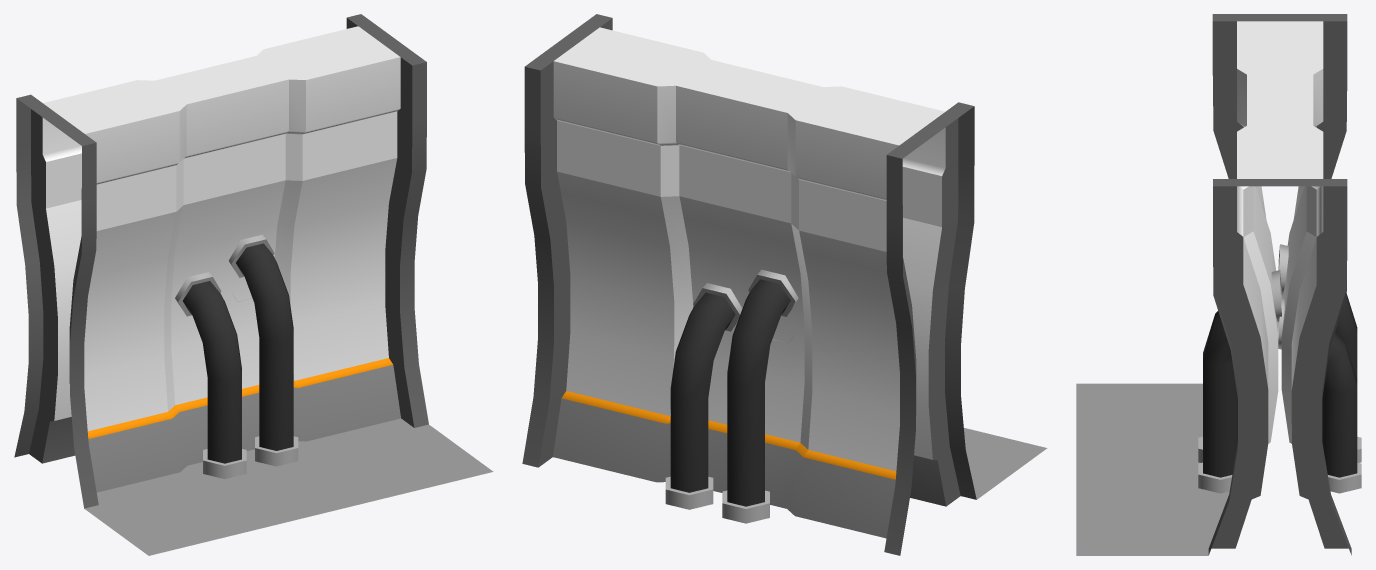
File: SM_ExteriorWall_03.fbx
The picture shows the model from 3 angles, left to right: view 1: azimuth 30°, elevation 25°; view 2: azimuth 150°, elevation 25°; view 3: azimuth 270°, elevation 25°; orthographic projection. The views are drawn at different scales.
Visible parts, largest first — view 1: SM_ExteriorWall_03; view 2: SM_ExteriorWall_03; view 3: SM_ExteriorWall_03.
Part boxes in pixels (<box>): SM_ExteriorWall_03: <box>14,14,493,555</box>; SM_ExteriorWall_03: <box>522,14,1047,555</box>; SM_ExteriorWall_03: <box>1076,14,1361,555</box>.
Size of the model in its own units: 200 by 200 by 140.
Materials: 1 (1 with a texture image).
